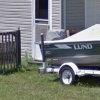Boat: (32, 23, 99, 92)
